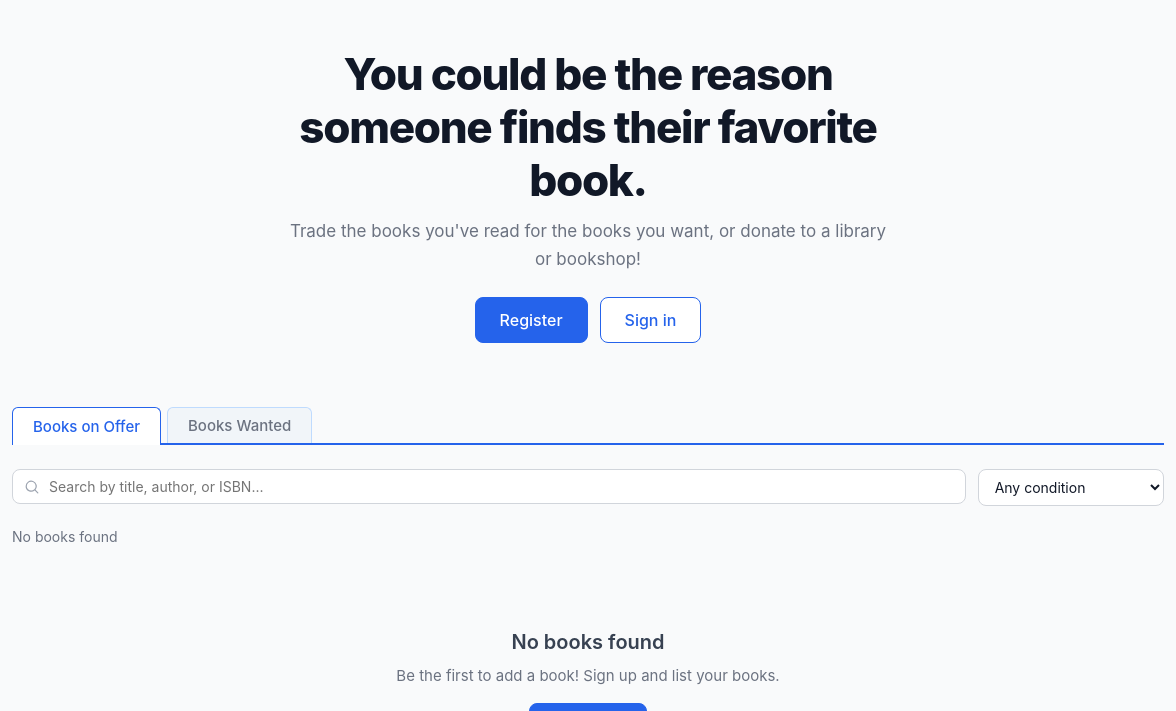
Scenario: Home page › shows empty state on wanted tab when no results
Click the tab "Books Wanted": click(240, 425) [167, 407, 312, 443]
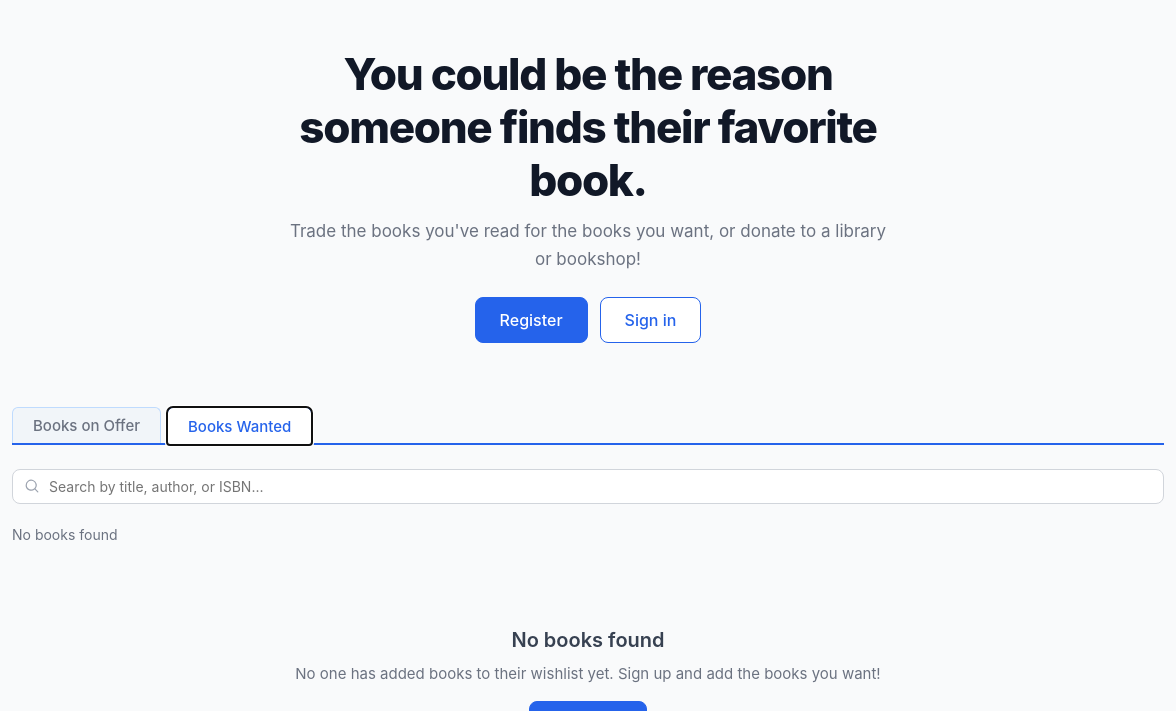
Expected: the text "No one has added books to their wishlist yet" is shown, [295, 664, 881, 683]
